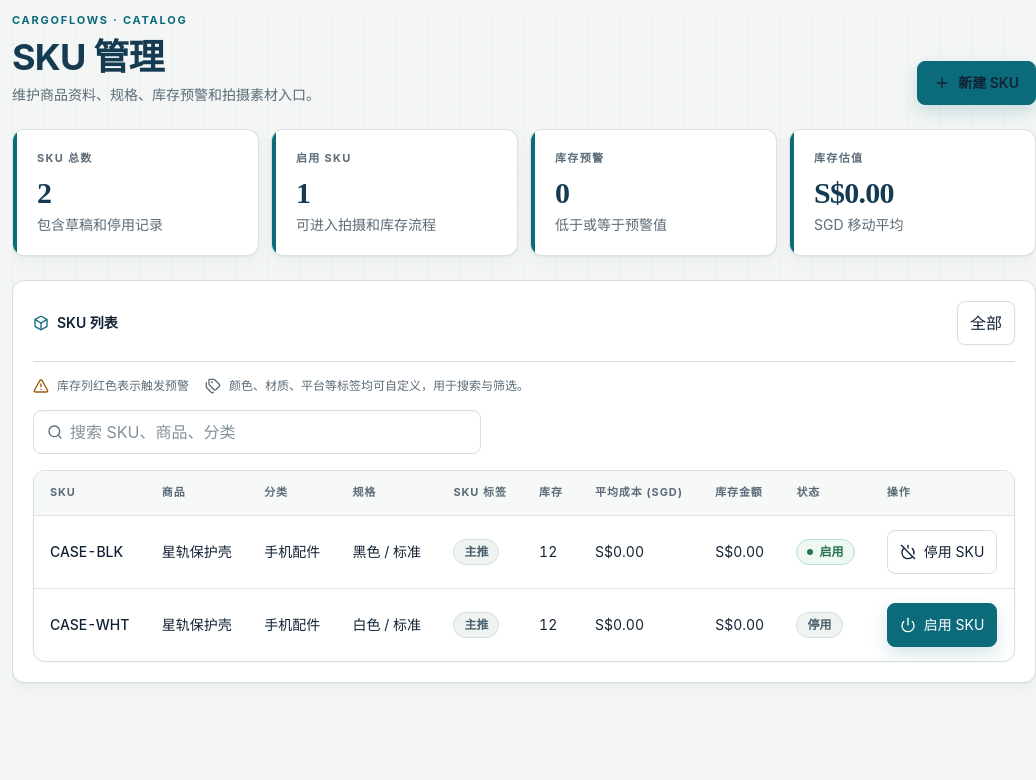
Scenario: SKU list lifecycle actions › disables and enables SKUs directly from their table rows
Click the button with aria-label "停用 SKU CASE-BLK" at (942,552), box [887,530,997,574]
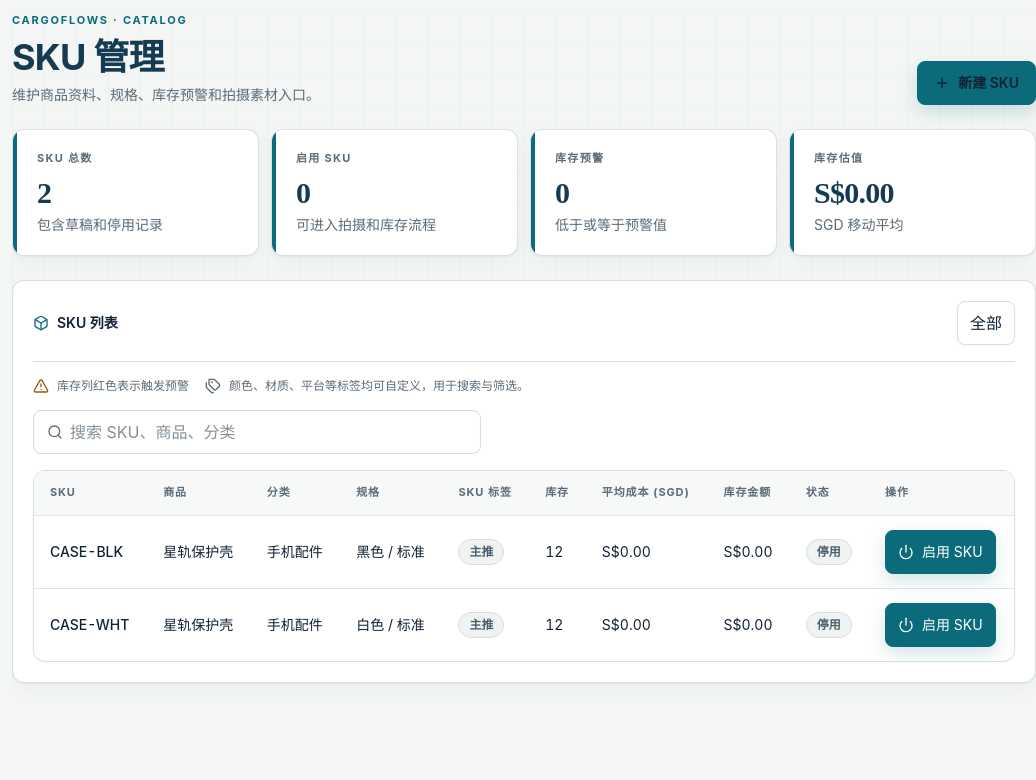
Expected: the button with aria-label "启用 SKU CASE-BLK" is shown, [885,530,996,574]
Click the button with aria-label "启用 SKU CASE-WHT" at (940,625), box [885,603,996,647]
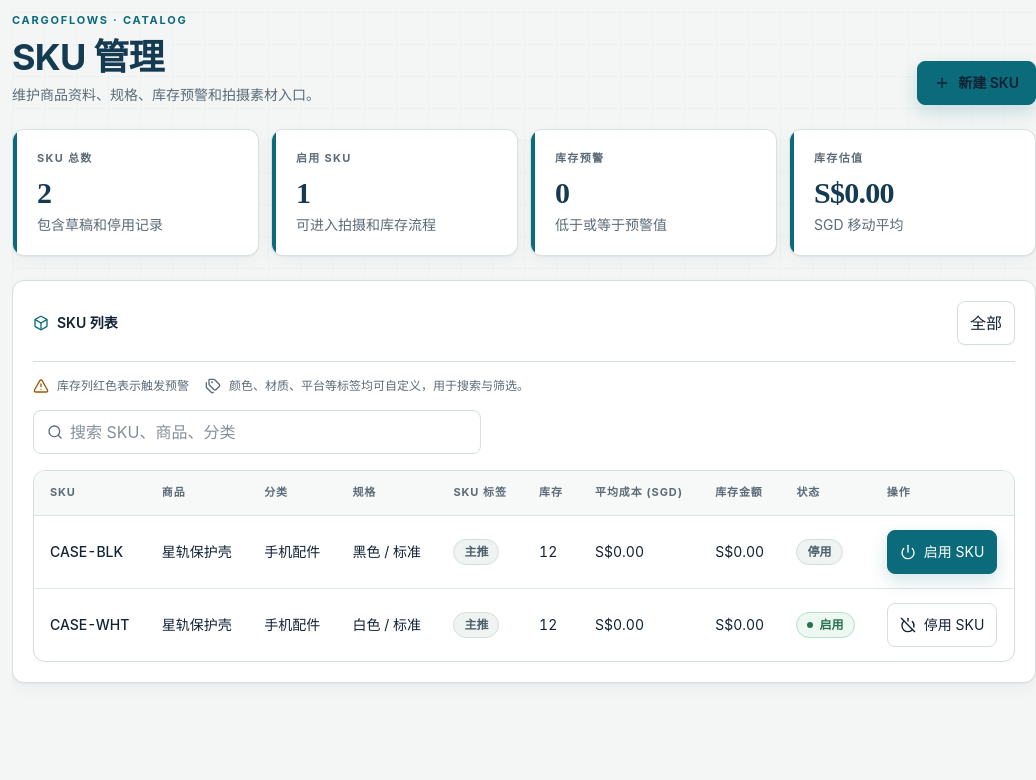
Expected: the button with aria-label "停用 SKU CASE-WHT" is shown, [887,603,997,647]
